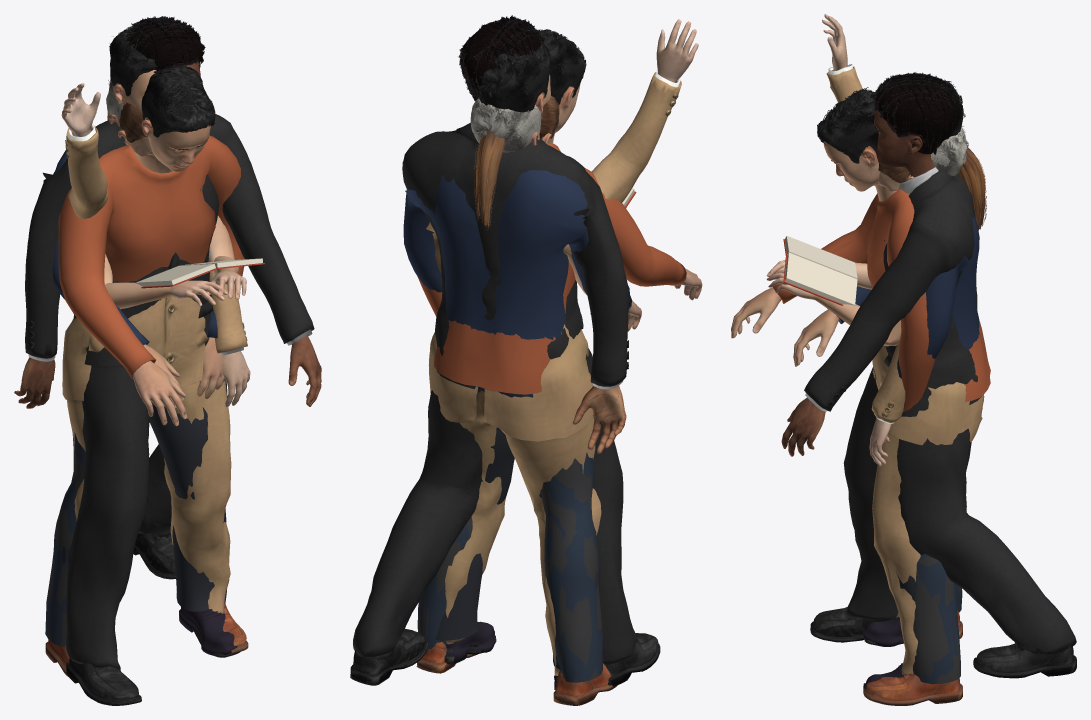
File: clients-librairie.glb
3 views of the same model, side by side, from view 1: azimuth 30°, elevation 25°; view 2: azimuth 150°, elevation 25°; view 3: azimuth 270°, elevation 25° (orthographic). The views are drawn at different scales.
Parts seen in each view (by area): view 1: male_elegantsuit01 (×2), male_casualsuit02_1 (×2), Sam_|_anatomical_body (×2), short01 (×2), female_casualsuit01_2, Maya_|_anatomical_body, shoes04, male_casualsuit02_2 (×2), afro01, Jordan_|_anatomical_body, Harper_|_anatomical_body, shoes03 (+3 smaller); view 2: male_elegantsuit01 (×2), male_casualsuit02_1 (×2), male_casualsuit02_2 (×2), short01 (×3), shoes04, afro01, female_casualsuit01_2, ponytail01, Jordan_|_anatomical_body, shoes01, Harper_|_anatomical_body, shoes03 (+1 smaller); view 3: male_elegantsuit01 (×2), male_casualsuit02_1 (×2), male_casualsuit02_2 (×2), afro01, shoes04, Sam_|_anatomical_body (×2), short01 (×2), Jordan_|_anatomical_body, livre (×2), shoes01, Maya_|_anatomical_body, ponytail01 (+2 smaller).
Part boxes in pixels (<box>): male_elegantsuit01 (×2): <box>25,114,314,668</box>; male_casualsuit02_1 (×2): <box>52,135,244,378</box>; Sam_|_anatomical_body (×2): <box>113,70,225,426</box>; short01 (×2): <box>109,26,215,137</box>; female_casualsuit01_2: <box>62,403,226,611</box>; Maya_|_anatomical_body: <box>104,129,246,309</box>; shoes04: <box>66,533,175,705</box>; male_casualsuit02_2 (×2): <box>45,432,227,646</box>; afro01: <box>123,16,205,72</box>; Jordan_|_anatomical_body: <box>14,62,321,408</box>; Harper_|_anatomical_body: <box>61,83,250,406</box>; shoes03: <box>119,607,237,670</box>; male_elegantsuit01 (×2): <box>353,70,681,675</box>; male_casualsuit02_1 (×2): <box>403,143,686,394</box>; male_casualsuit02_2 (×2): <box>417,386,602,682</box>; short01 (×3): <box>470,29,586,152</box>; shoes04: <box>350,628,660,686</box>; afro01: <box>458,15,544,101</box>; female_casualsuit01_2: <box>435,392,600,669</box>; ponytail01: <box>474,95,559,230</box>; Jordan_|_anatomical_body: <box>572,386,626,453</box>; shoes01: <box>416,642,617,705</box>; Harper_|_anatomical_body: <box>530,19,698,145</box>; shoes03: <box>446,621,557,681</box>; male_elegantsuit01 (×2): <box>804,64,1076,676</box>; male_casualsuit02_1 (×2): <box>773,189,990,411</box>; male_casualsuit02_2 (×2): <box>913,554,962,684</box>; afro01: <box>872,72,963,155</box>; shoes04: <box>810,607,1076,678</box>; Sam_|_anatomical_body (×2): <box>731,141,896,442</box>; short01 (×2): <box>817,87,968,176</box>; Jordan_|_anatomical_body: <box>781,110,934,456</box>; livre (×2): <box>785,236,857,305</box>; shoes01: <box>863,610,962,705</box>; Maya_|_anatomical_body: <box>766,171,913,346</box>; ponytail01: <box>878,147,986,230</box>.
Size of the model in its own units: 0.7395 by 1.82 by 0.9477.
27 materials, 17 textured.
